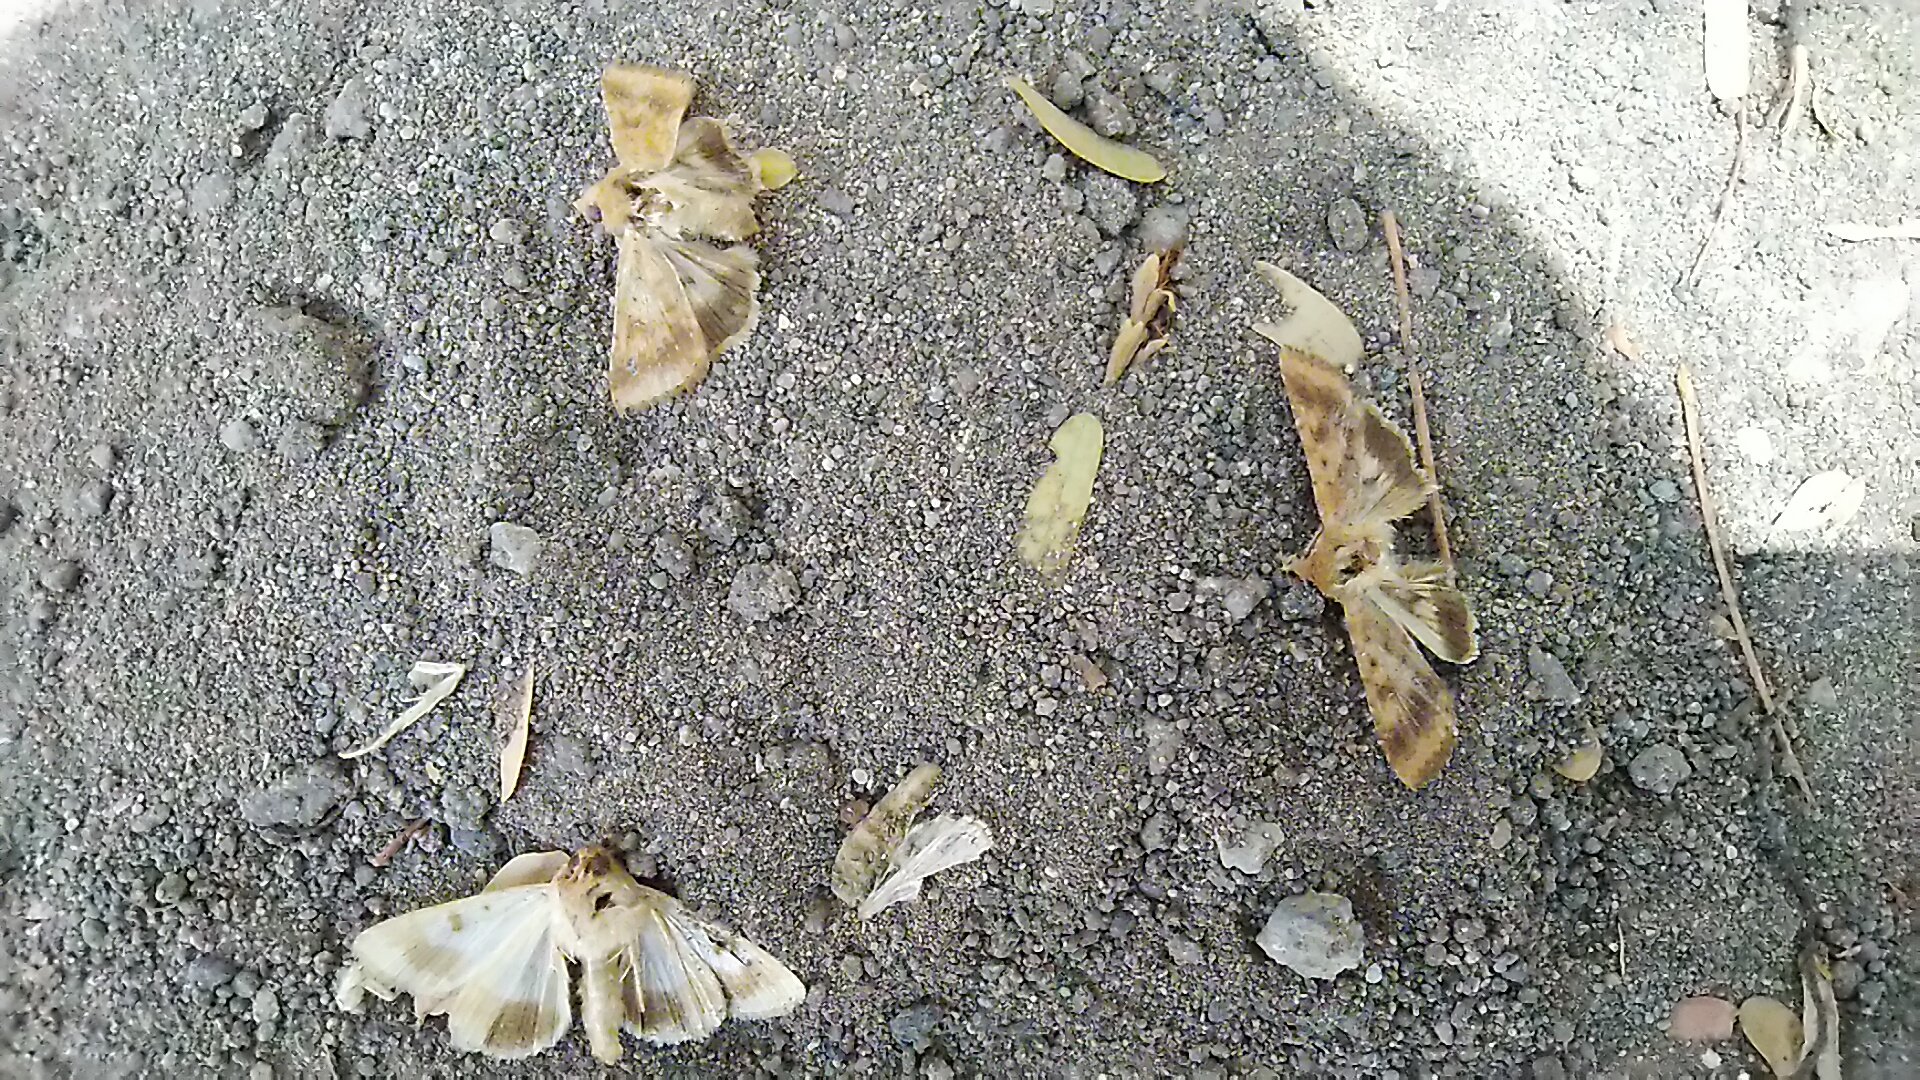INS-C: (1254, 338, 1499, 794), (345, 825, 820, 1059), (570, 57, 779, 417)
